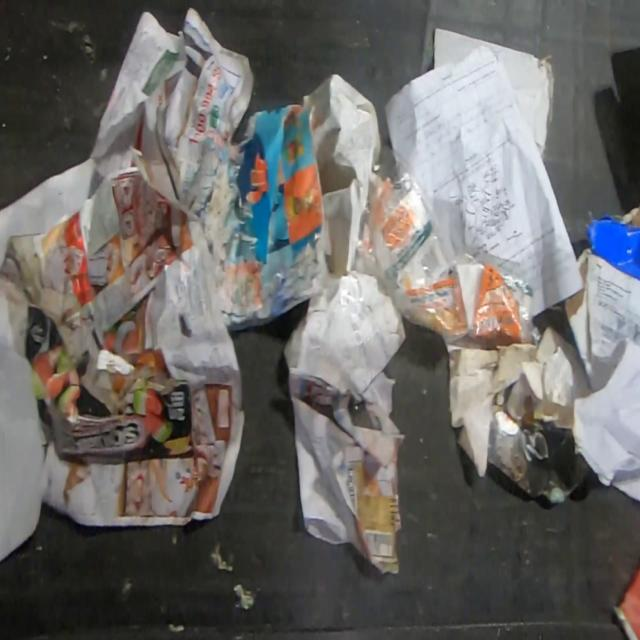cardboard: (22, 298, 196, 464), (431, 28, 555, 160), (562, 205, 639, 393)
soft_plastic: (335, 136, 543, 353)
